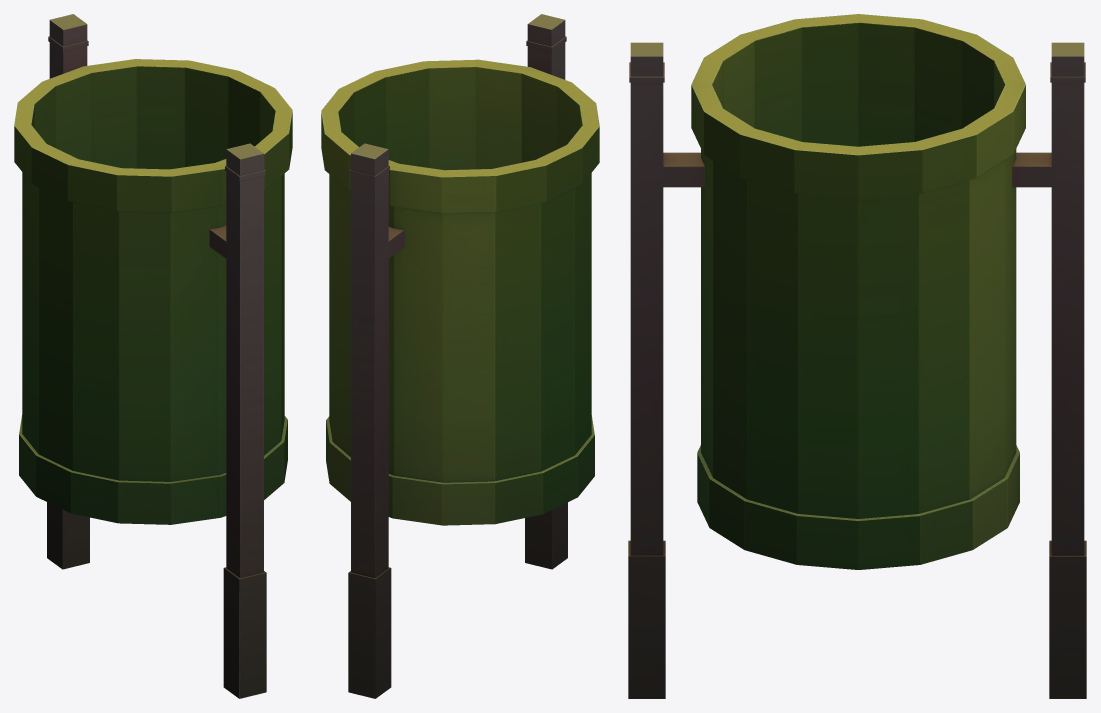
Rendered from basurero.glb.
3 views of the same model, side by side, from view 1: azimuth 30°, elevation 25°; view 2: azimuth 150°, elevation 25°; view 3: azimuth 270°, elevation 25° (orthographic). The views are drawn at different scales.
Parts seen in each view (by area): view 1: Cylinder.001, Cube.010; view 2: Cylinder.001, Cube.010; view 3: Cylinder.001, Cube.010.
Boxes of the visible parts, x1,y1,x2,y2 form: Cylinder.001: [14, 59, 292, 524]; Cube.010: [47, 14, 266, 698]; Cylinder.001: [321, 59, 599, 525]; Cube.010: [348, 14, 567, 698]; Cylinder.001: [691, 14, 1025, 569]; Cube.010: [628, 42, 1086, 698].
Bounding box in the file's own units: 0.5931 × 1.25 × 0.8123.
Materials: 2 (2 with a texture image).
